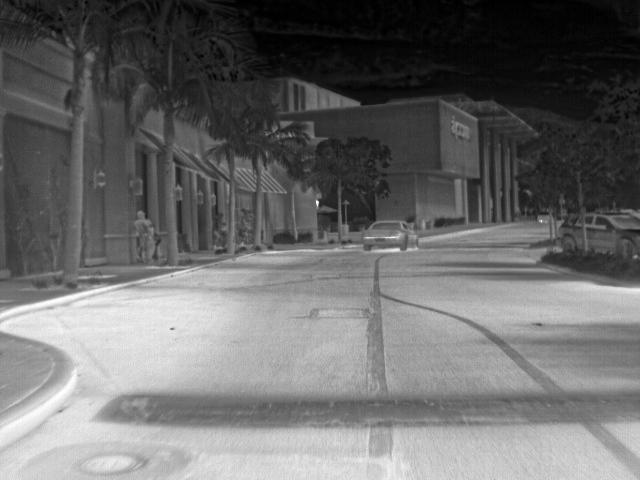car: (587, 211, 640, 258), (362, 220, 420, 252), (558, 211, 580, 251), (537, 210, 551, 224)
person: (135, 209, 155, 265)
